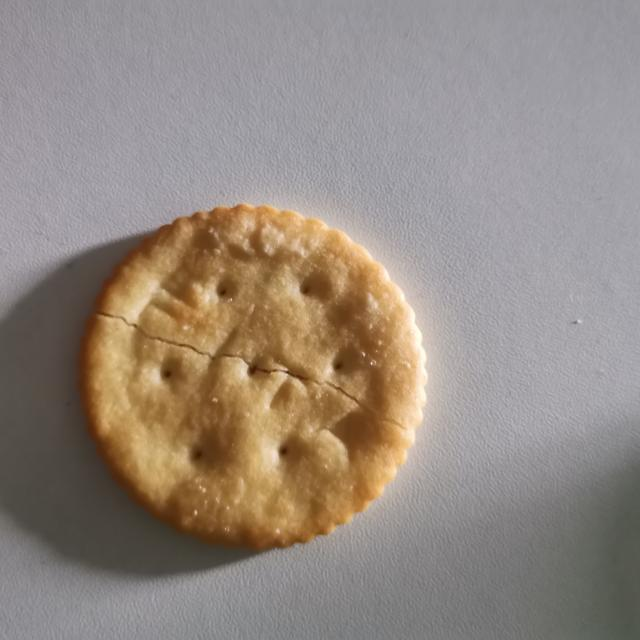Fracture: (86, 292, 426, 451)
